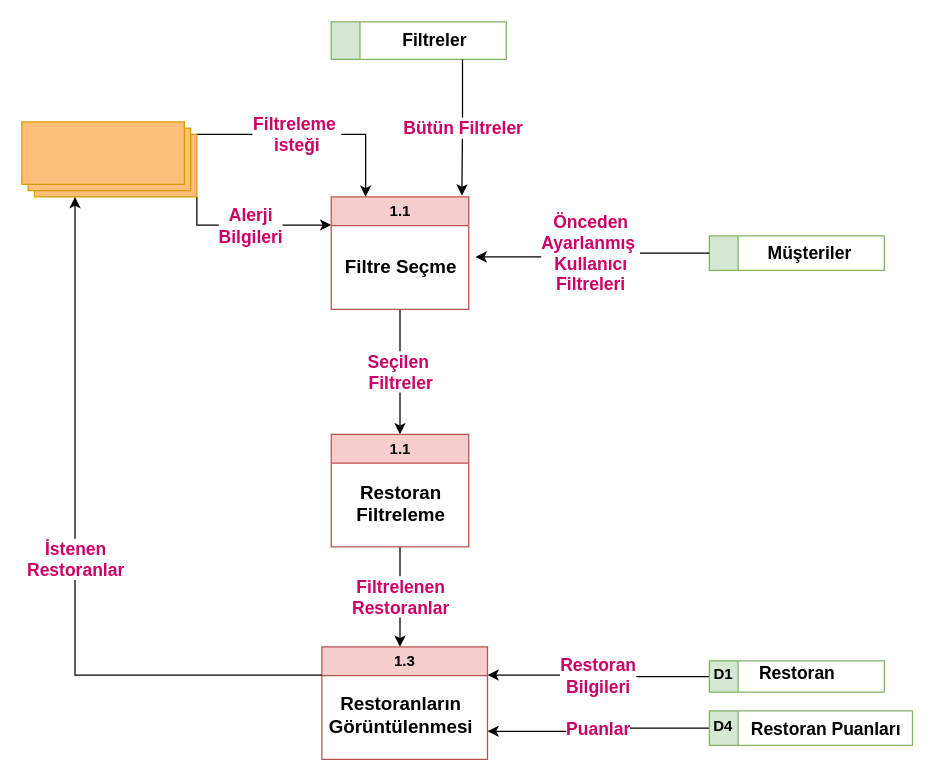
The diagram is 935 pixels wide and 781 high, and some of its shapes have lost their labels. Each missing label, with the box of its shape:
D2: (330, 21, 506, 59)
D3: (708, 235, 884, 270)
Müşteri: (21, 121, 197, 197)
